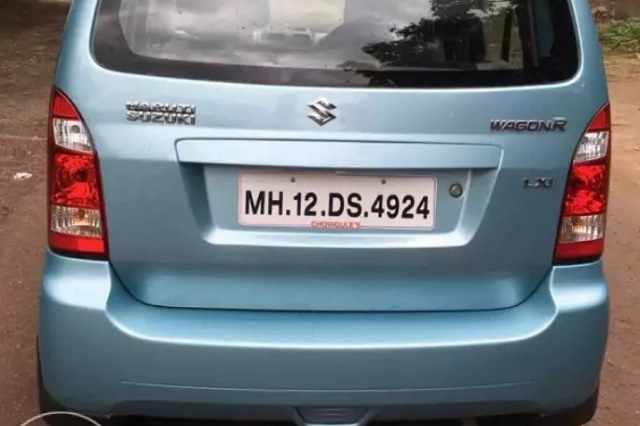licenseplate: (234, 164, 446, 236)
